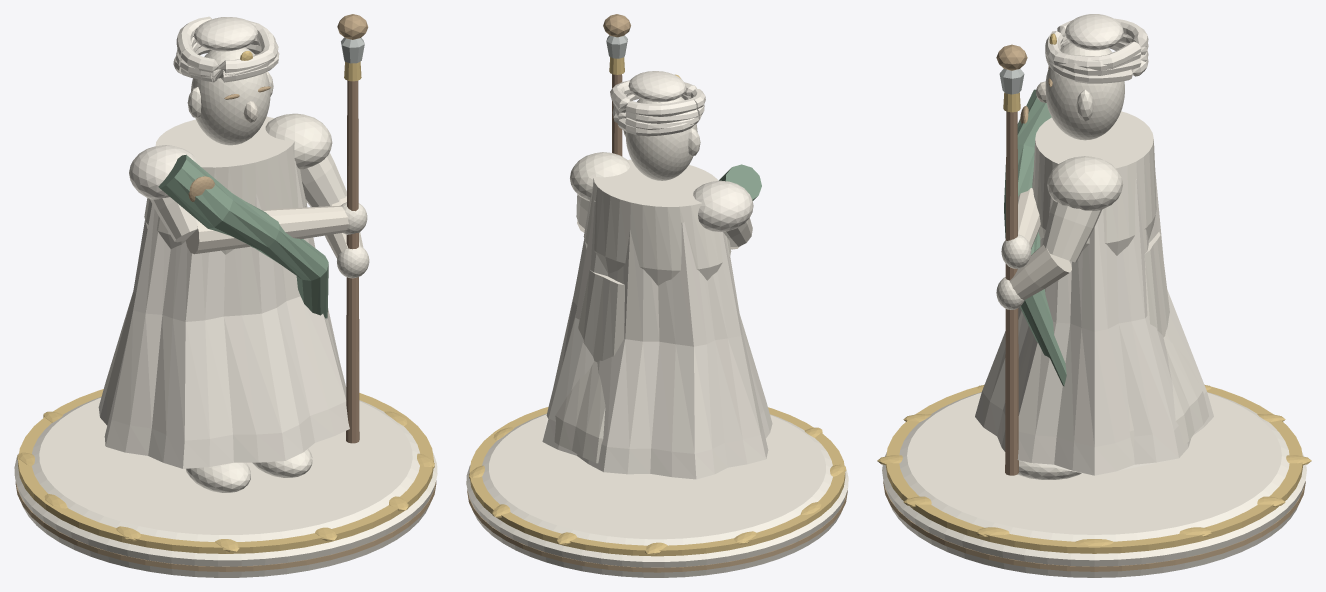
3 renders of one model, left to right at view 1: azimuth 30°, elevation 25°; view 2: azimuth 150°, elevation 25°; view 3: azimuth 270°, elevation 25°, orthographic. The views are drawn at different scales.
Visible parts, largest first — view 1: Acharya_Garment, Plinth_Stone, Acharya_DiagonalShawl, Acharya_Torso, Plinth_GoldRim, Acharya_Head, Acharya_Staff_Shaft, Acharya_LeftArm_Fore, Plinth_BronzeFillet, Acharya_RightArm_Pauldron, Acharya_Turban_3, Acharya_LeftArm_Pauldron (+9 smaller); view 2: Acharya_Garment, Plinth_Stone, Acharya_Torso, Acharya_GarmentUnderlay, Plinth_GoldRim, Acharya_Head, Acharya_LeftArm_Pauldron, Plinth_BronzeFillet, Acharya_Turban_3, Acharya_RightArm_Pauldron, Acharya_Turban_Cap, Acharya_DiagonalShawl (+5 smaller); view 3: Plinth_Stone, Acharya_Garment, Acharya_Torso, Plinth_GoldRim, Acharya_GarmentUnderlay, Acharya_Staff_Shaft, Acharya_Head, Acharya_DiagonalShawl, Acharya_RightArm_Pauldron, Plinth_BronzeFillet, Acharya_RightArm_Upper, Acharya_RightArm_Fore (+10 smaller).
Boxes of the visible parts, left/top/right/bottom form: Acharya_Garment: left=98, top=161, right=349, bottom=468; Plinth_Stone: left=14, top=397, right=437, bottom=577; Acharya_DiagonalShawl: left=158, top=154, right=328, bottom=318; Acharya_Torso: left=144, top=116, right=306, bottom=254; Plinth_GoldRim: left=18, top=389, right=433, bottom=553; Acharya_Head: left=191, top=47, right=270, bottom=145; Acharya_Staff_Shaft: left=346, top=80, right=359, bottom=443; Acharya_LeftArm_Fore: left=185, top=205, right=348, bottom=254; Plinth_BronzeFillet: left=15, top=480, right=436, bottom=571; Acharya_RightArm_Pauldron: left=265, top=113, right=332, bottom=169; Acharya_Turban_3: left=176, top=16, right=276, bottom=73; Acharya_LeftArm_Pauldron: left=129, top=145, right=195, bottom=199; Acharya_Garment: left=542, top=201, right=772, bottom=479; Plinth_Stone: left=466, top=413, right=848, bottom=577; Acharya_Torso: left=583, top=159, right=731, bottom=285; Acharya_GarmentUnderlay: left=554, top=270, right=624, bottom=463; Plinth_GoldRim: left=469, top=407, right=845, bottom=556; Acharya_Head: left=625, top=96, right=697, bottom=180; Acharya_LeftArm_Pauldron: left=693, top=180, right=753, bottom=231; Plinth_BronzeFillet: left=467, top=489, right=847, bottom=572; Acharya_Turban_3: left=610, top=81, right=705, bottom=116; Acharya_RightArm_Pauldron: left=570, top=152, right=629, bottom=201; Acharya_Turban_Cap: left=628, top=71, right=686, bottom=102; Acharya_DiagonalShawl: left=719, top=164, right=761, bottom=200; Plinth_Stone: left=882, top=392, right=1306, bottom=577; Acharya_Garment: left=975, top=172, right=1213, bottom=475; Acharya_Torso: left=1033, top=111, right=1156, bottom=255; Plinth_GoldRim: left=885, top=386, right=1303, bottom=553; Acharya_GarmentUnderlay: left=1128, top=232, right=1208, bottom=450; Acharya_Staff_Shaft: left=1005, top=111, right=1018, bottom=475; Acharya_Head: left=1045, top=42, right=1124, bottom=140; Acharya_DiagonalShawl: left=1004, top=89, right=1066, bottom=386; Acharya_RightArm_Pauldron: left=1047, top=156, right=1123, bottom=210; Plinth_BronzeFillet: left=883, top=481, right=1305, bottom=571; Acharya_RightArm_Upper: left=1042, top=200, right=1101, bottom=262; Acharya_RightArm_Fore: left=1009, top=245, right=1071, bottom=300.
Bounding box in the file's own units: 0.68 × 0.858 × 0.696.
